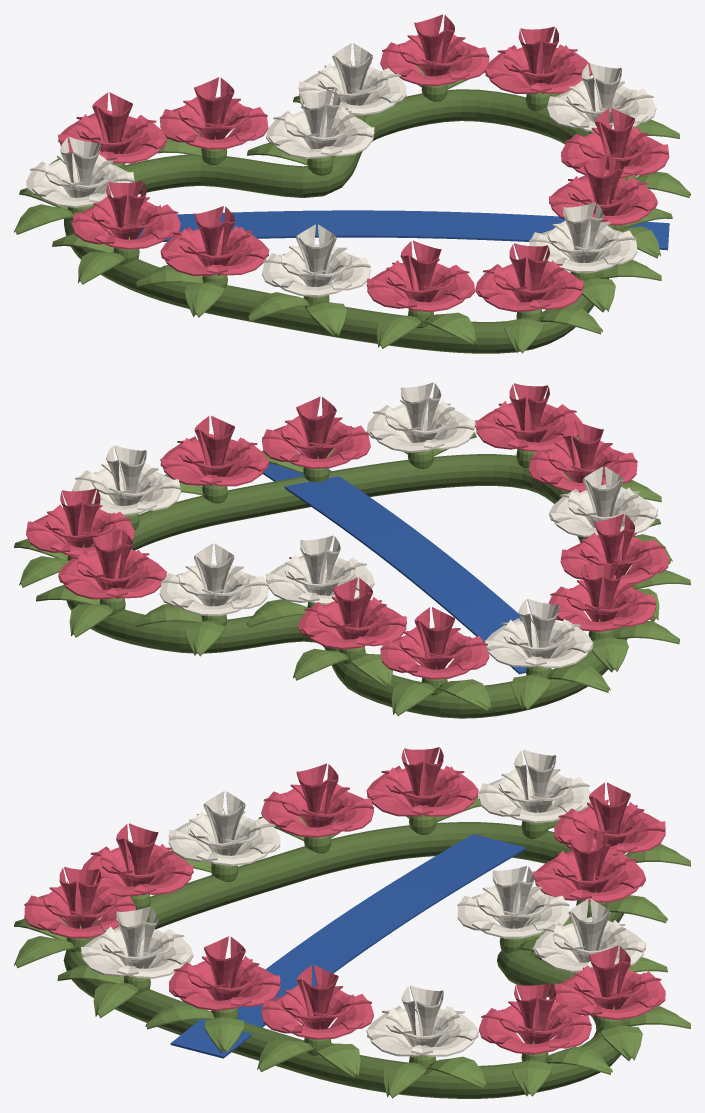
3 renders of one model, top to bottom at view 1: azimuth 30°, elevation 25°; view 2: azimuth 150°, elevation 25°; view 3: azimuth 270°, elevation 25°, orthographic. The views are drawn at different scales.
Parts seen in each view (by area): view 1: Generic continuous hidden backing ring, Plain integrated diagonal ribbon, Flower 07 attached leaf 1, Flower 08 attached leaf -1, Flower 03 attached leaf 1, Flower 05 attached leaf 1, Flower 06 attached leaf -1, Flower 04 attached leaf 1, Flower 06 attached leaf 1, Flower 07 attached leaf -1, Flower 08 attached leaf 1, Flower 09 attached leaf -1 (+58 smaller); view 2: Generic continuous hidden backing ring, Plain integrated diagonal ribbon, Flower 01 attached leaf -1, Flower 03 attached leaf -1, Flower 02 attached leaf 1, Flower 15 attached leaf 1, Flower 14 attached leaf 1, Flower 03 attached leaf 1, Flower 02 attached leaf -1, Flower 04 attached leaf -1, Flower 00 attached leaf -1, Flower 13 attached leaf 1 (+56 smaller); view 3: Generic continuous hidden backing ring, Plain integrated diagonal ribbon, Flower 12 attached leaf 1, Flower 08 attached leaf 1, Flower 11 attached leaf -1, Flower 10 attached leaf 1, Flower 13 attached leaf -1, Flower 09 attached leaf 1, Flower 11 attached leaf 1, Flower 13 attached leaf 1, Flower 14 attached leaf -1, Flower 12 attached leaf -1 (+61 smaller).
Part boxes in pixels (x1,y1,x2,y2): Generic continuous hidden backing ring: [64, 89, 608, 353]; Plain integrated diagonal ribbon: [108, 210, 669, 250]; Flower 07 attached leaf 1: [423, 312, 476, 344]; Flower 08 attached leaf -1: [504, 317, 544, 353]; Flower 03 attached leaf 1: [14, 204, 73, 234]; Flower 05 attached leaf 1: [184, 282, 224, 317]; Flower 06 attached leaf -1: [247, 292, 309, 321]; Flower 04 attached leaf 1: [78, 251, 125, 284]; Flower 06 attached leaf 1: [306, 301, 347, 336]; Flower 07 attached leaf -1: [377, 315, 421, 348]; Flower 08 attached leaf 1: [538, 306, 602, 334]; Flower 09 attached leaf -1: [581, 277, 615, 312]; Generic continuous hidden backing ring: [66, 454, 627, 718]; Plain integrated diagonal ribbon: [263, 453, 526, 674]; Flower 01 attached leaf -1: [293, 648, 348, 680]; Flower 03 attached leaf -1: [511, 674, 551, 709]; Flower 02 attached leaf 1: [438, 679, 491, 711]; Flower 15 attached leaf 1: [185, 620, 225, 656]; Flower 14 attached leaf 1: [69, 604, 113, 637]; Flower 03 attached leaf 1: [546, 664, 610, 692]; Flower 02 attached leaf -1: [391, 682, 435, 715]; Flower 04 attached leaf -1: [591, 636, 628, 672]; Flower 00 attached leaf -1: [247, 599, 307, 627]; Flower 13 attached leaf 1: [19, 556, 69, 587]; Generic continuous hidden backing ring: [63, 822, 624, 1098]; Plain integrated diagonal ribbon: [170, 834, 525, 1058]; Flower 12 attached leaf 1: [427, 1056, 487, 1089]; Flower 08 attached leaf 1: [14, 936, 75, 968]; Flower 11 attached leaf -1: [257, 1039, 314, 1072]; Flower 10 attached leaf 1: [204, 1016, 244, 1053]; Flower 13 attached leaf -1: [512, 1059, 552, 1096]; Flower 09 attached leaf 1: [93, 983, 138, 1018]; Flower 11 attached leaf 1: [315, 1043, 360, 1078]; Flower 13 attached leaf 1: [544, 1046, 612, 1074]; Flower 14 attached leaf -1: [600, 1024, 642, 1060]; Flower 12 attached leaf -1: [384, 1062, 426, 1098].
Bounding box in the file's own units: 0.5225 × 0.0827 × 0.4923.
